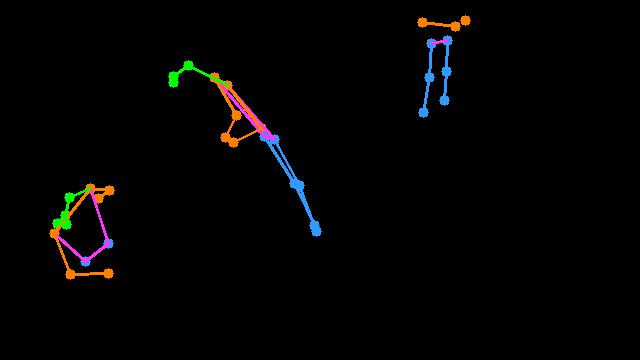normal: (158, 41, 329, 251)
